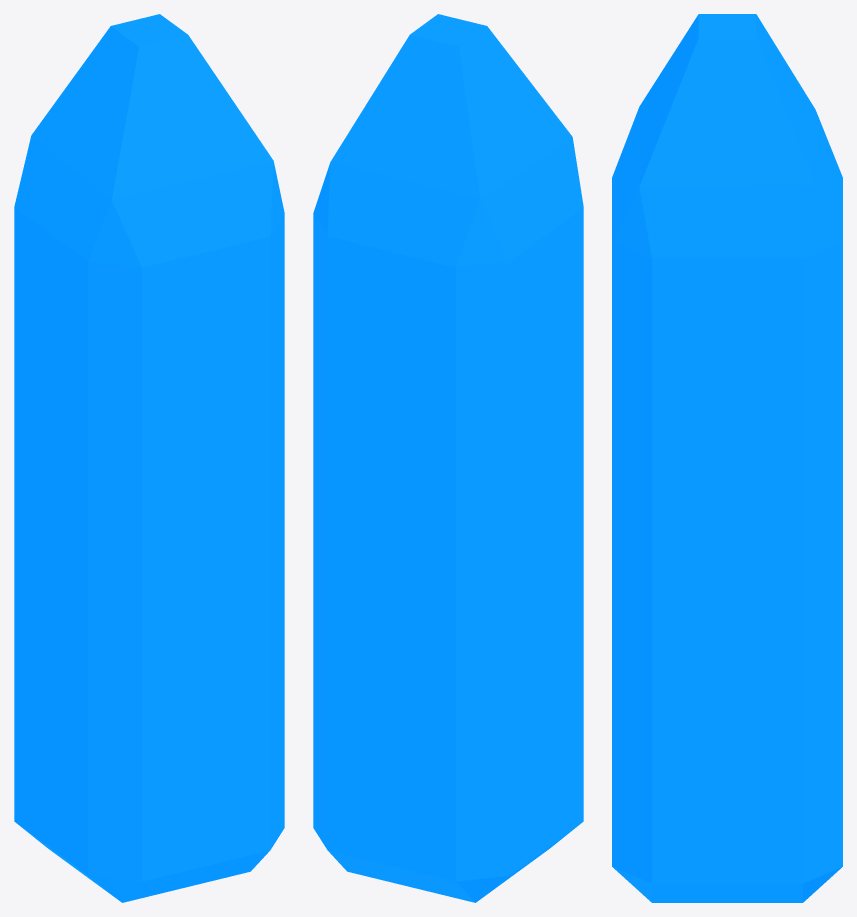
File: Crystal.fbx
The picture shows the model from 3 angles, left to right: view 1: azimuth 30°, elevation 25°; view 2: azimuth 150°, elevation 25°; view 3: azimuth 270°, elevation 25°; orthographic projection.
Parts seen in each view (by area): view 1: Crystal; view 2: Crystal; view 3: Crystal.
Boxes of the visible parts, x1,y1,x2,y2 form: Crystal: (14, 14, 284, 902); Crystal: (313, 14, 583, 902); Crystal: (612, 14, 842, 902).
Size of the model in its own units: 18 by 72.65 by 18.
